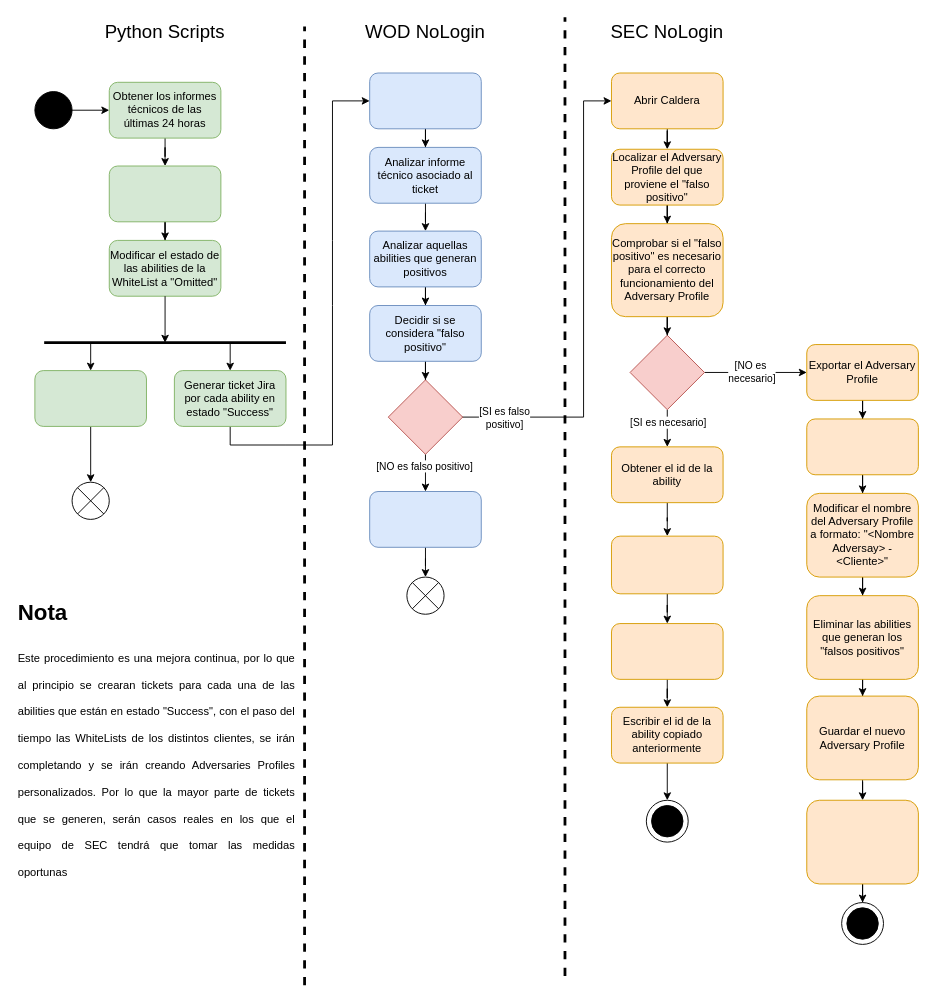
Some shapes in this 935 by 1003 pixel diagram are drawn without their labels. The centre of each missing label's shape, as x and y in pixels:
"Acceder al repo WhiteList de GitLab" goes at point 667,564.
"Descargar WhiteList de GitLab" goes at point 164,193.
"Importar el Adversary Profile exportado en el paso anterior" goes at point 862,446.
"Localizar la WhiteList del cliente" goes at point 667,651.
"Modificar el Scheduler de CALDERA para ejecutar el nuevo Adversary Profile" goes at point 862,841.
"Realizar acciones necesarias para parchear el error" goes at point 425,519.
"Recibir tickets Jira" goes at point 425,100.
"Subir informe a Confluence" goes at point 90,398.
